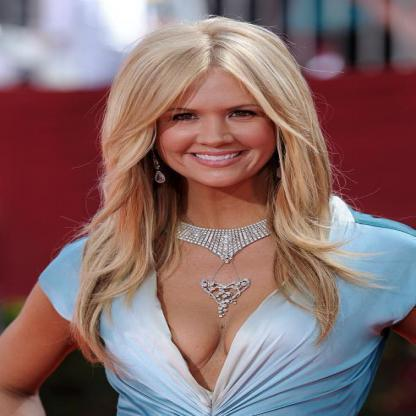long-hair: (94, 186, 350, 221)
